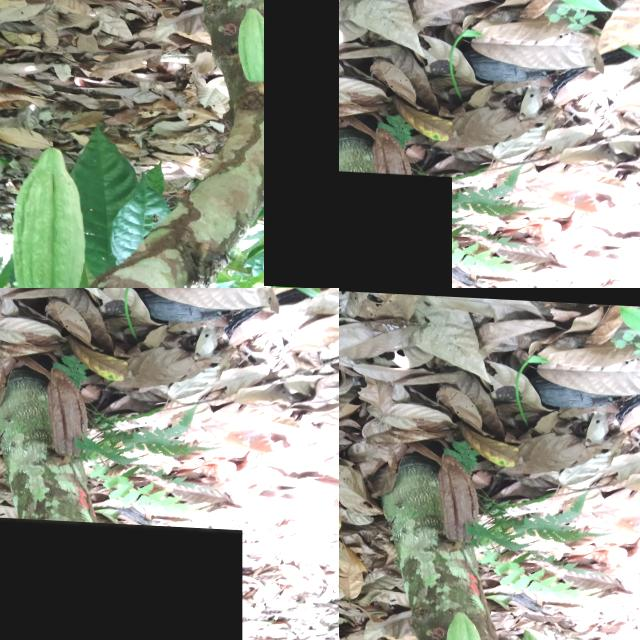Fitoftora: (264, 0, 339, 287), (433, 456, 484, 547)
Monilia: (0, 505, 242, 640)
Sana: (447, 611, 487, 640), (520, 623, 545, 640)
